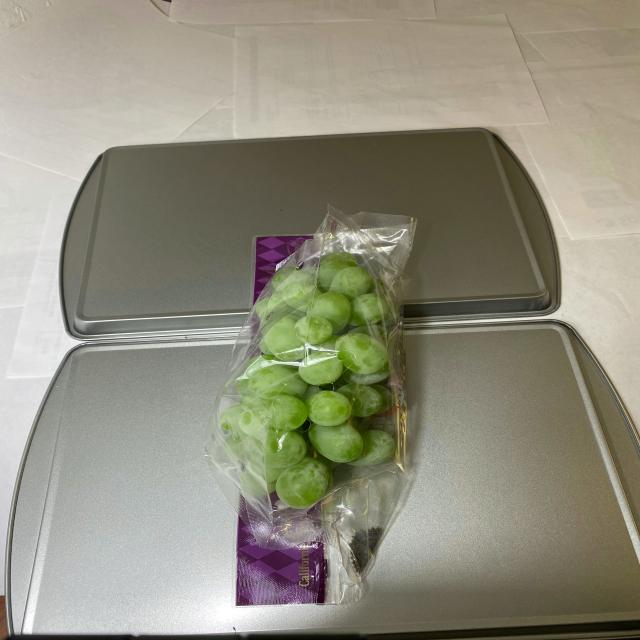grapes: (222, 240, 399, 512)
